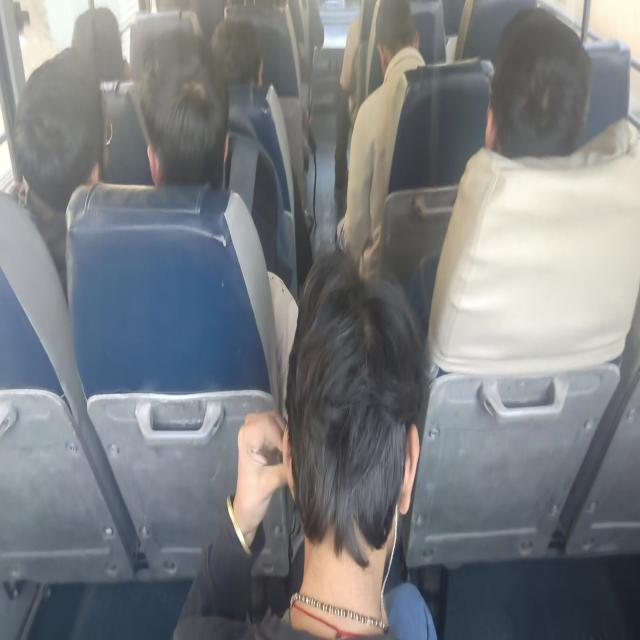person: (247, 234, 462, 601), (125, 40, 242, 223), (20, 69, 120, 212), (481, 48, 577, 182), (219, 20, 320, 110), (66, 14, 135, 104), (374, 8, 419, 79)
